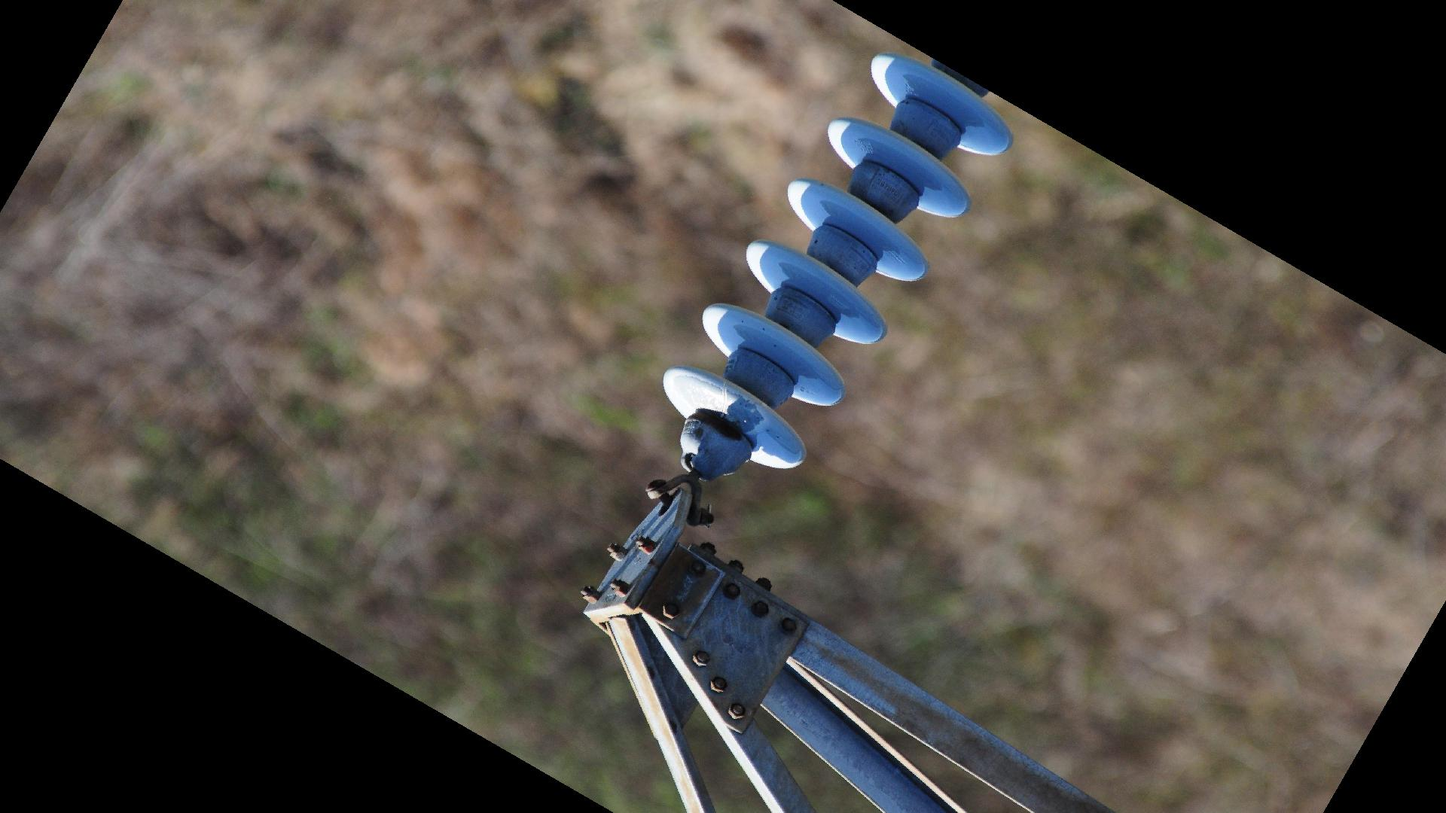insulator: (656, 45, 1019, 478)
insulator_flashover: (725, 394, 767, 436)
